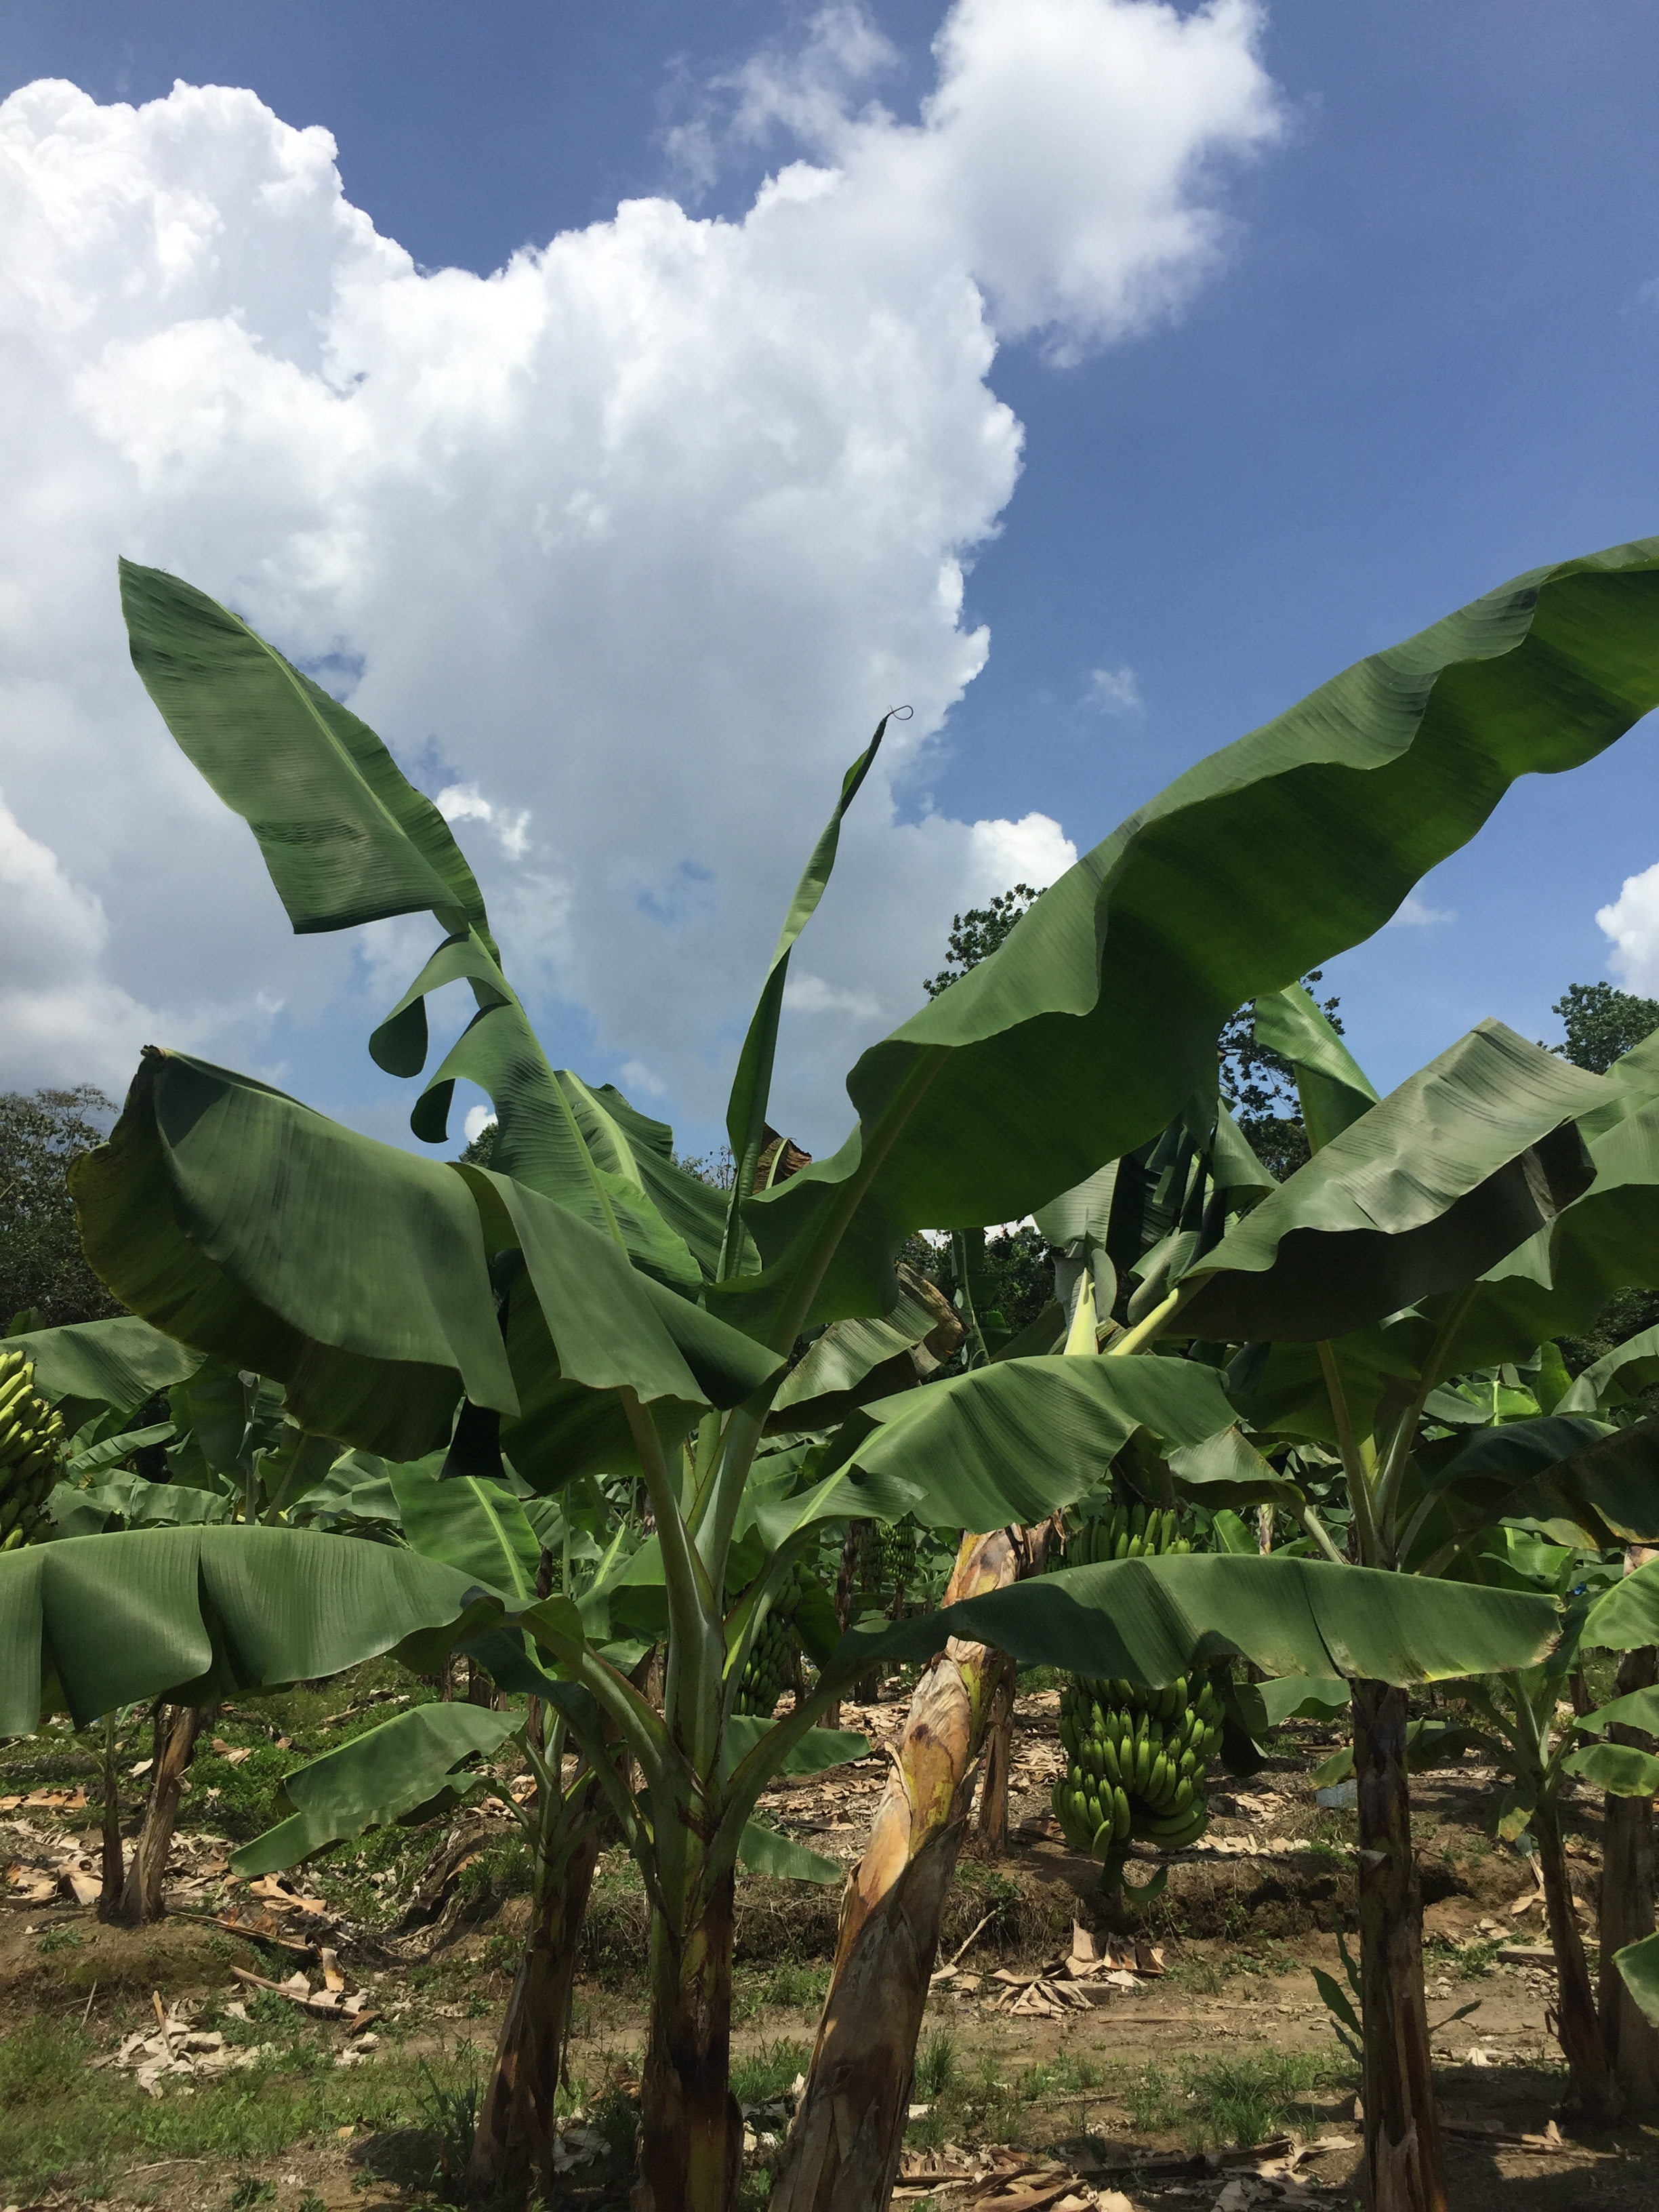candleleafs: (713, 705, 913, 1277)
